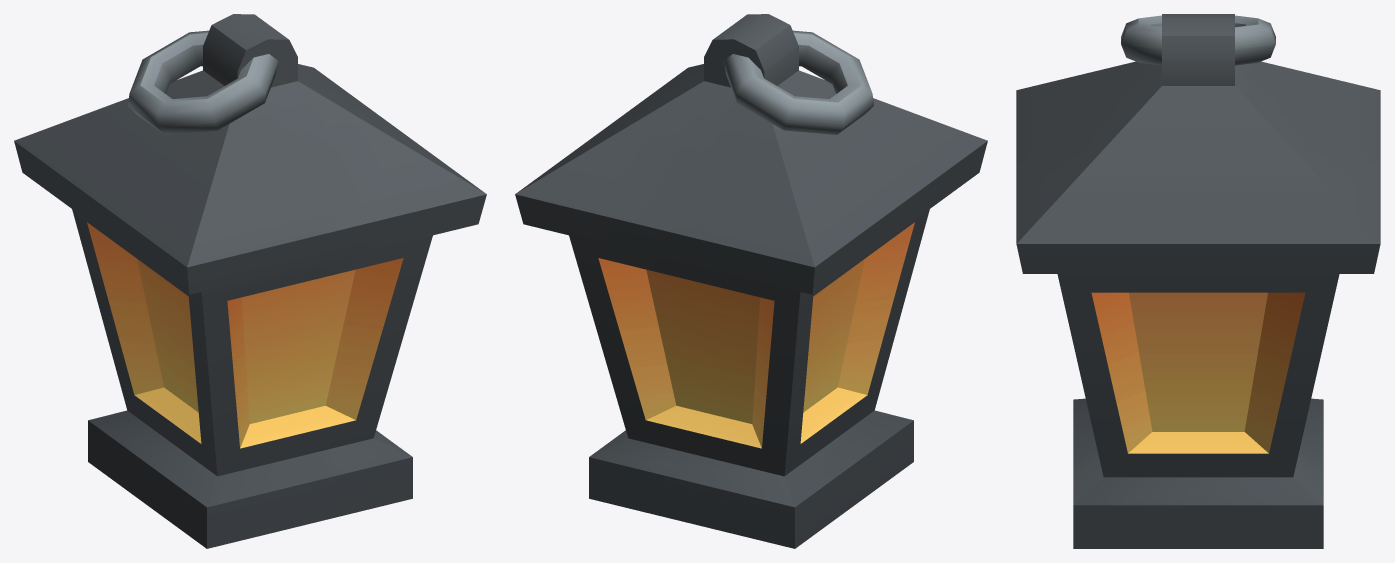
Rendered from h_lantern_standing.glb.
The picture shows the model from 3 angles, left to right: view 1: azimuth 30°, elevation 25°; view 2: azimuth 150°, elevation 25°; view 3: azimuth 270°, elevation 25°; orthographic projection. The views are drawn at different scales.
Parts seen in each view (by area): view 1: lantern_standing; view 2: lantern_standing; view 3: lantern_standing.
Part boxes in pixels (x1=…): lantern_standing: x1=14, y1=14, x2=486, y2=548; lantern_standing: x1=515, y1=14, x2=987, y2=548; lantern_standing: x1=1016, y1=14, x2=1380, y2=548.
Size of the model in its own units: 0.64 by 0.9252 by 0.64.
Materials: 1 (1 with a texture image).
